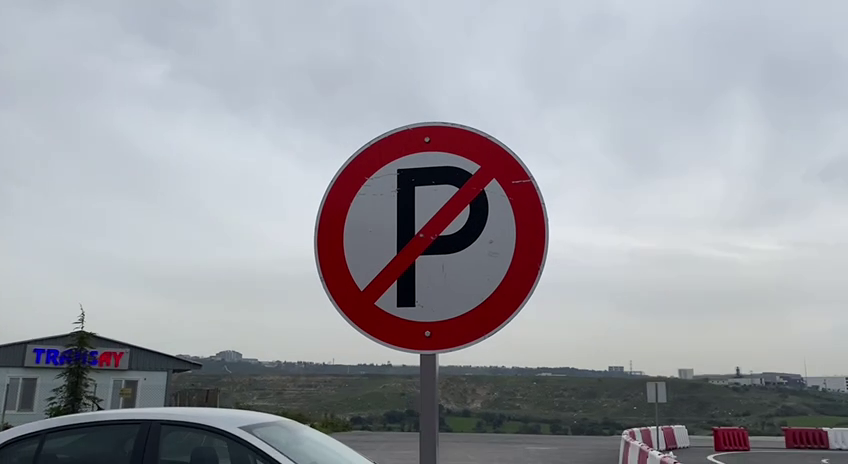noparking: (301, 108, 566, 366)
